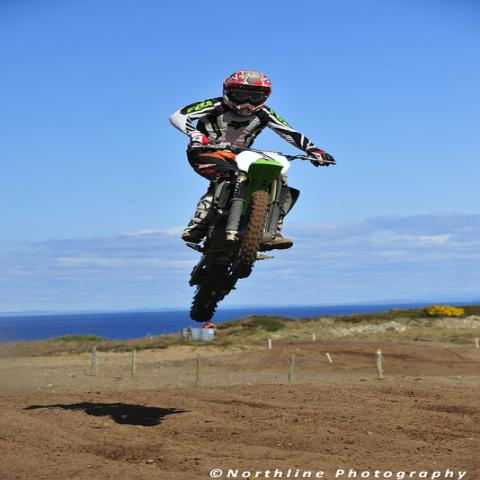motorcycle: (180, 136, 337, 323)
